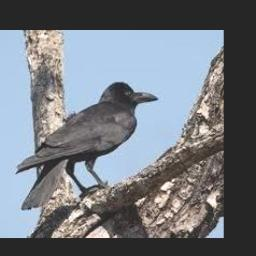Crow: (16, 81, 160, 211)
